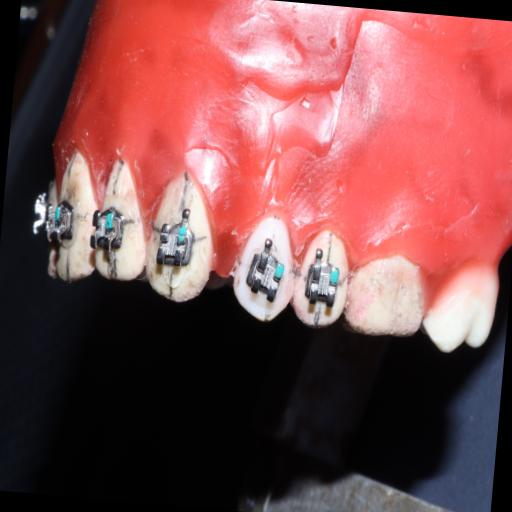correct_brace: (226, 204, 302, 334)
incorrect_brace: (242, 234, 290, 304), (158, 218, 198, 272)
